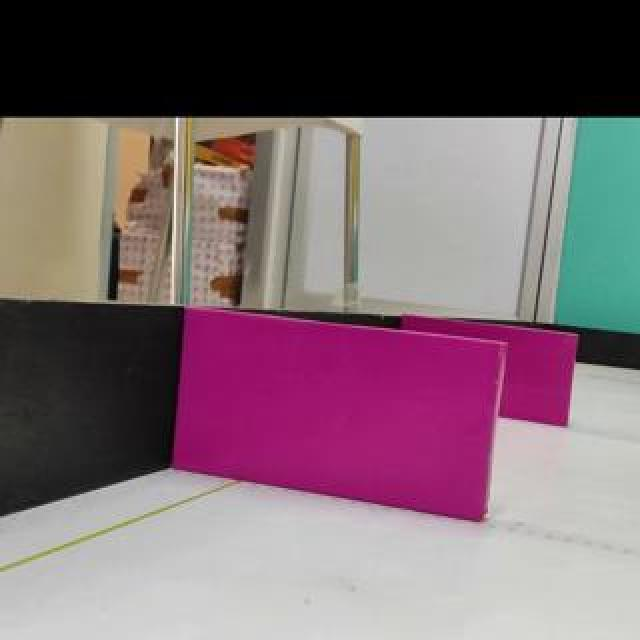xparking: (171, 309, 503, 524), (501, 327, 578, 427)
